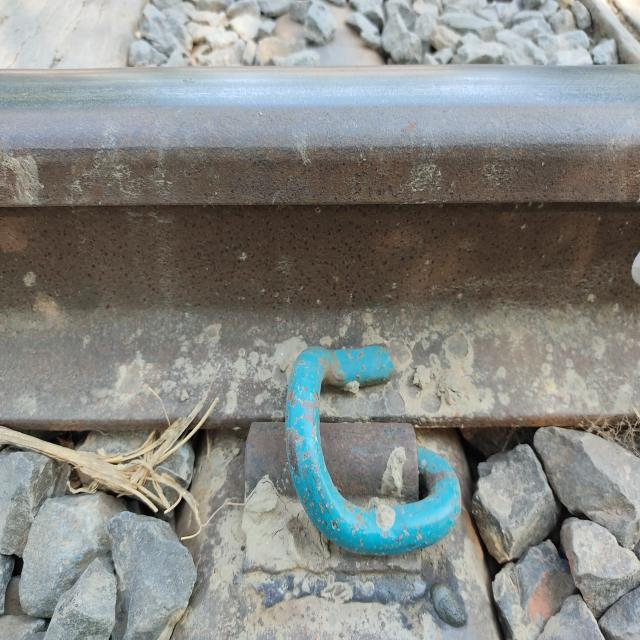Faults: (243, 339, 472, 595)
